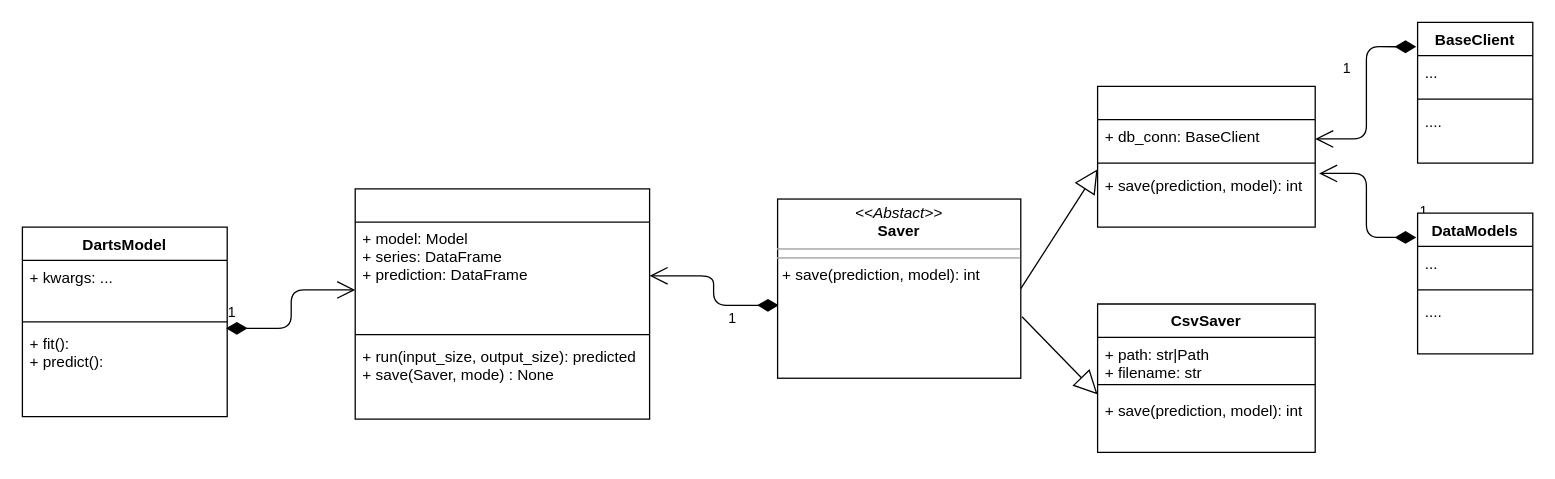
This 1555x479 diagram has some shape labels left out. The shapes that lost their labels are listed below. From the top down, each one's box as (x1, y1, x2, y2) in pixels, then its label:
(1096, 85, 1315, 227): DBSaver
(354, 188, 650, 419): Forecaster
